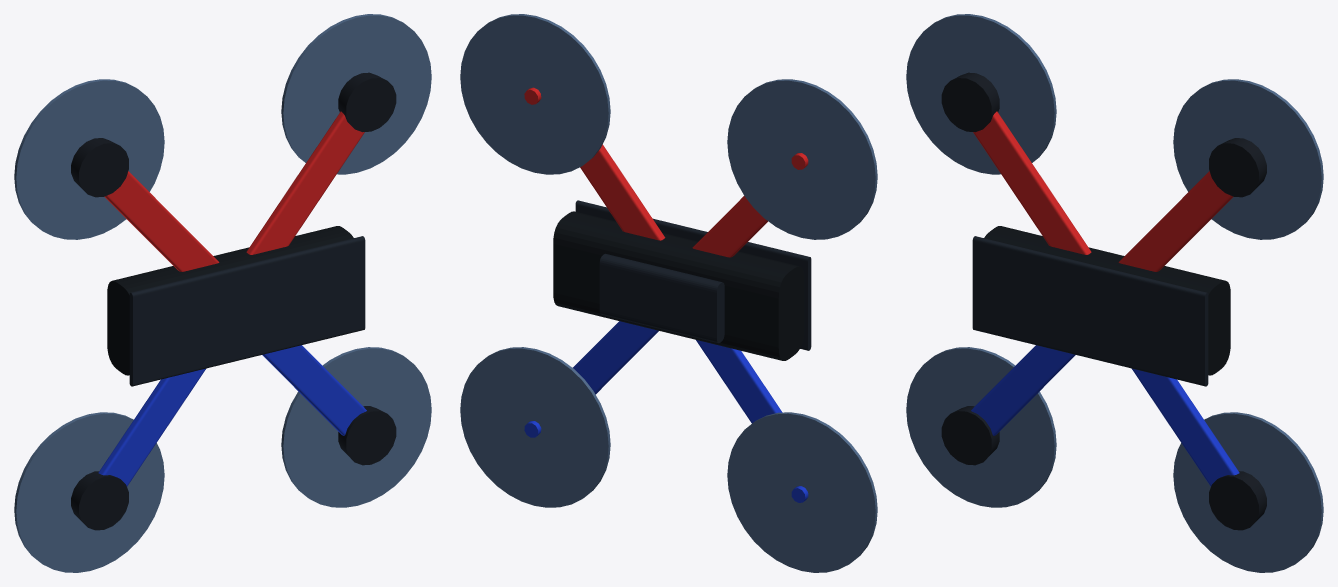
The model's file is quad_fpv.obj.
3 views of the same model, side by side, from view 1: azimuth 30°, elevation 25°; view 2: azimuth 150°, elevation 25°; view 3: azimuth 330°, elevation 25° (orthographic).
Visible parts, largest first — view 1: prop_grey_5, body_mid_1, motor_dark_3, red_metal_2, blue_metal_6, body_dark_0; view 2: prop_grey_5, body_dark_0, body_mid_1, blue_metal_6, red_metal_2; view 3: prop_grey_5, body_mid_1, motor_dark_3, red_metal_2, blue_metal_6, body_dark_0.
Boxes of the visible parts, x1=… form: prop_grey_5: x1=14, y1=14, x2=431, y2=572; body_mid_1: x1=129, y1=236, x2=365, y2=386; motor_dark_3: x1=71, y1=72, x2=396, y2=530; red_metal_2: x1=104, y1=111, x2=364, y2=271; blue_metal_6: x1=98, y1=345, x2=366, y2=486; body_dark_0: x1=107, y1=226, x2=353, y2=375; prop_grey_5: x1=460, y1=14, x2=877, y2=572; body_dark_0: x1=553, y1=211, x2=804, y2=360; body_mid_1: x1=575, y1=200, x2=811, y2=350; blue_metal_6: x1=524, y1=321, x2=808, y2=502; red_metal_2: x1=524, y1=87, x2=808, y2=257; prop_grey_5: x1=906, y1=14, x2=1323, y2=572; body_mid_1: x1=972, y1=236, x2=1208, y2=386; motor_dark_3: x1=941, y1=72, x2=1266, y2=530; red_metal_2: x1=973, y1=111, x2=1233, y2=271; blue_metal_6: x1=971, y1=345, x2=1239, y2=486; body_dark_0: x1=984, y1=226, x2=1230, y2=375.
Bounding box in the file's own units: 0.7 × 0.7862 × 0.1072.
